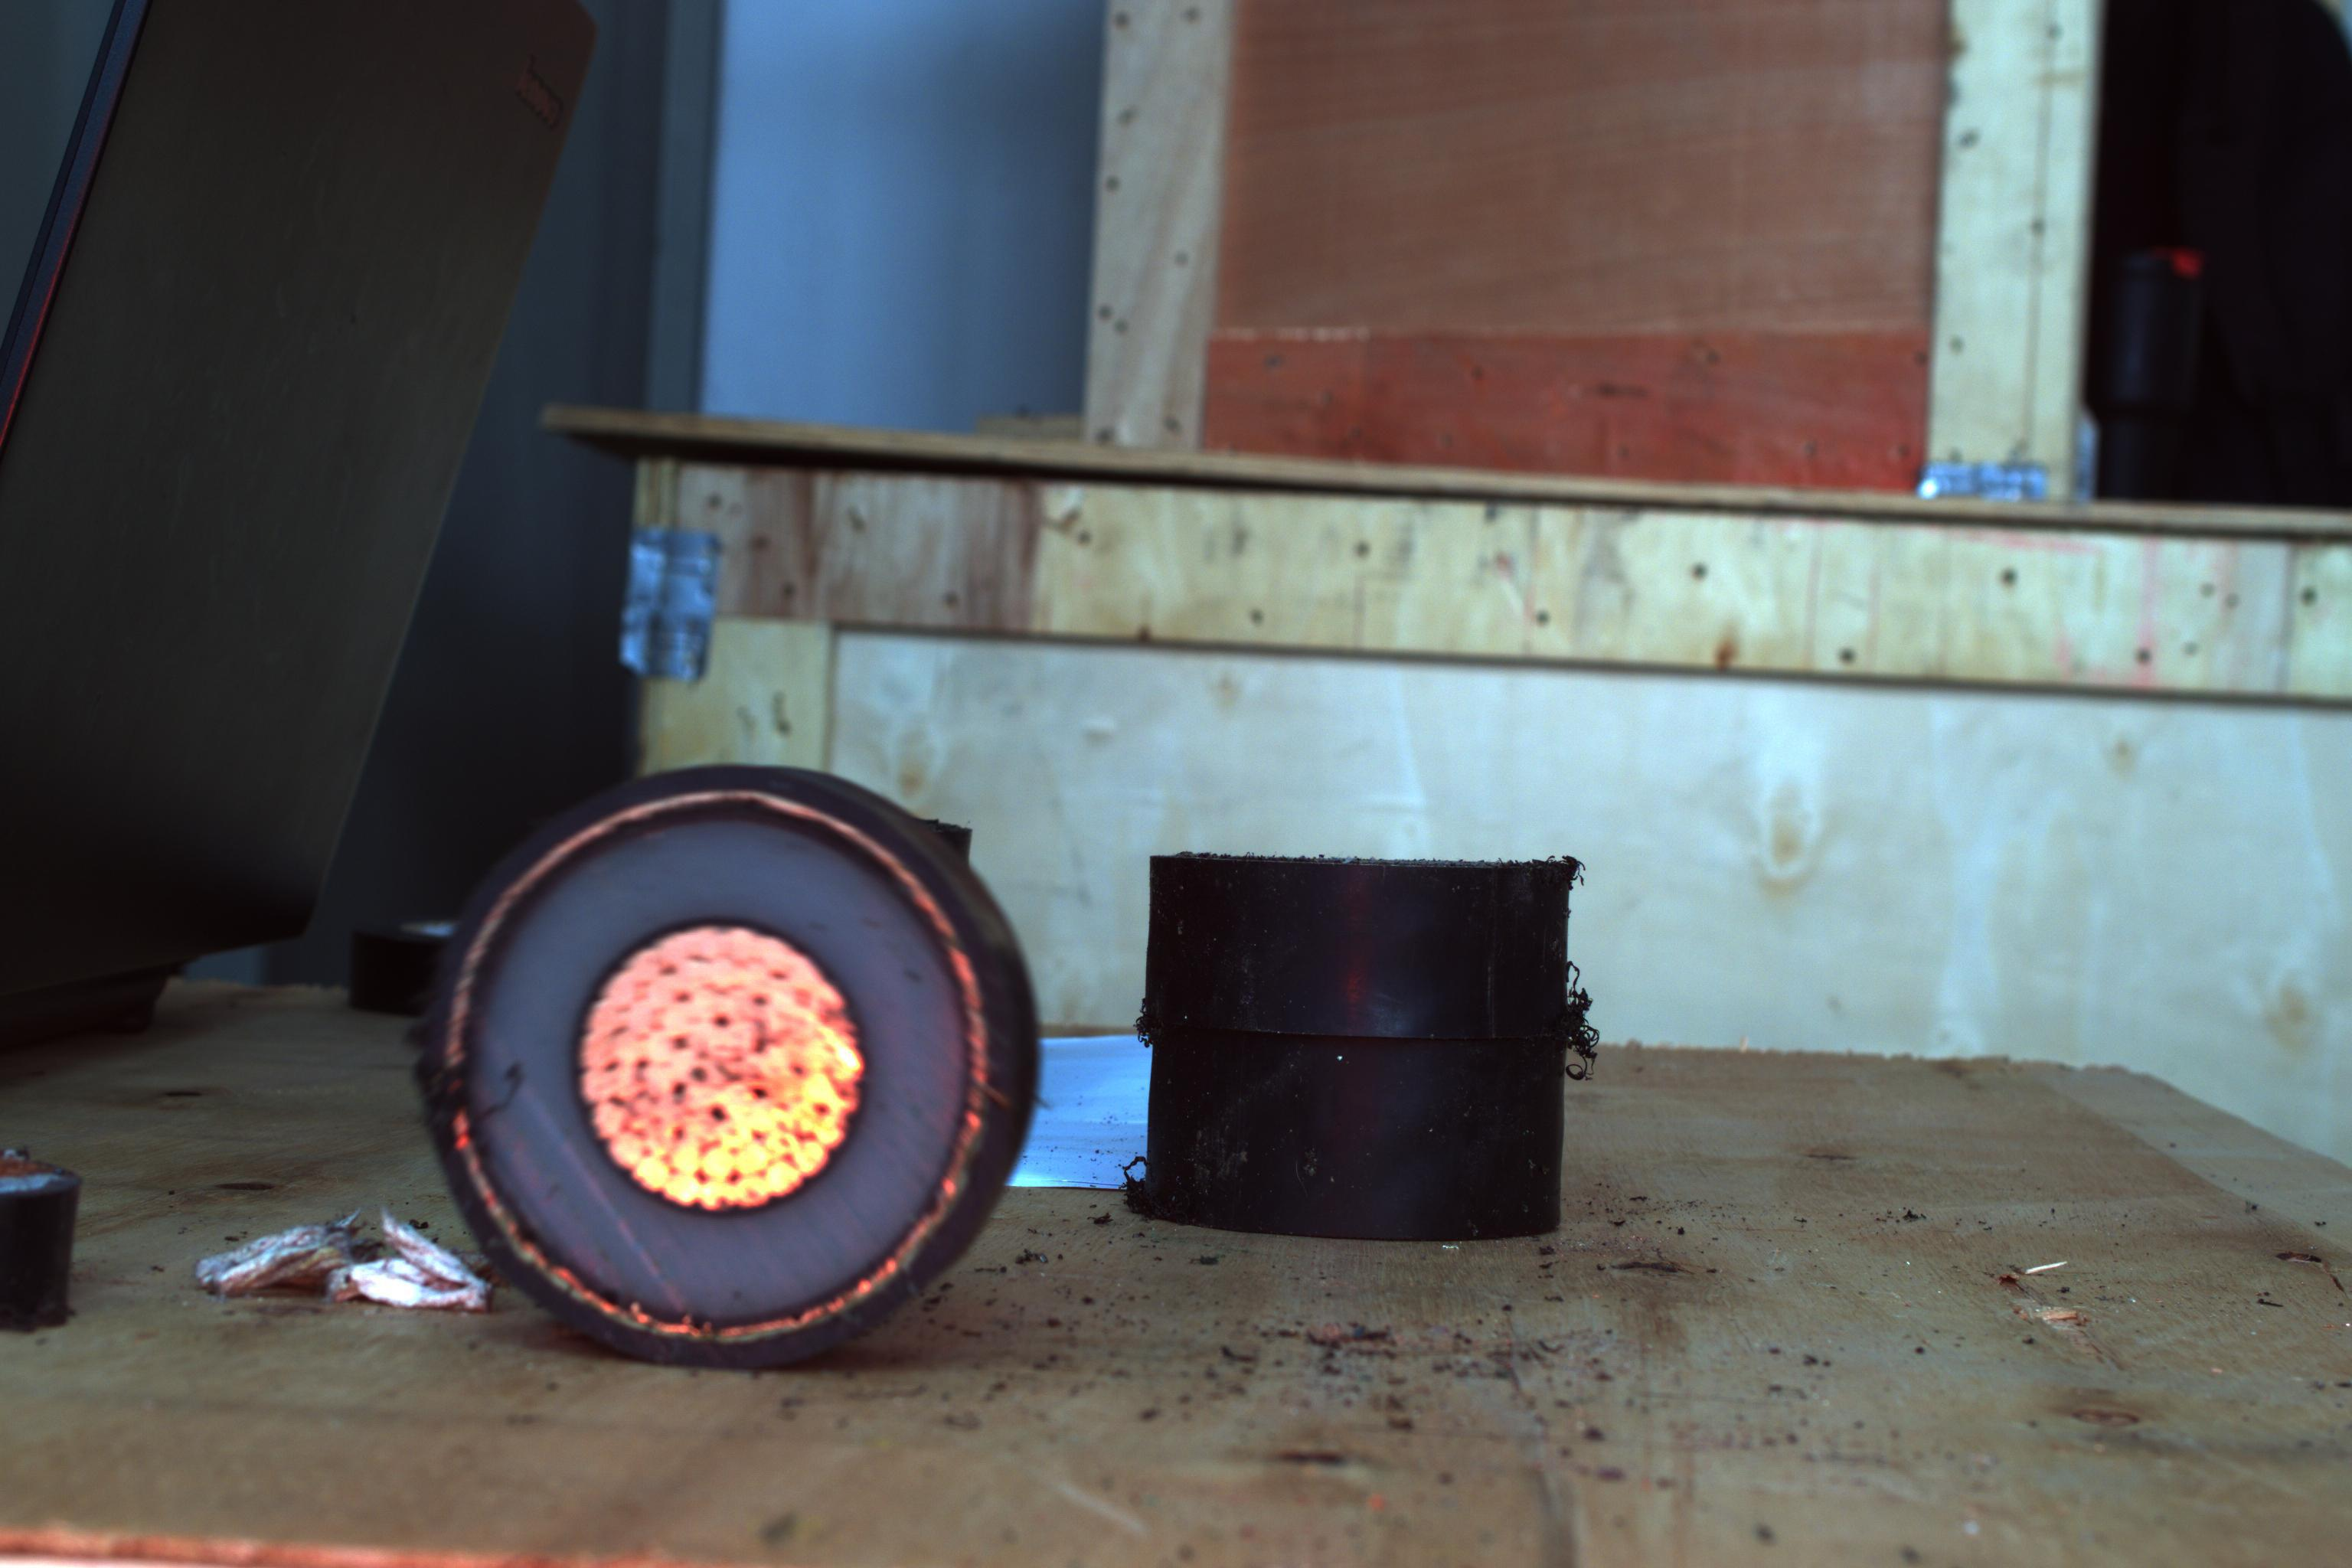YJV_26_35kV_1x630: (455, 756, 982, 1340)
